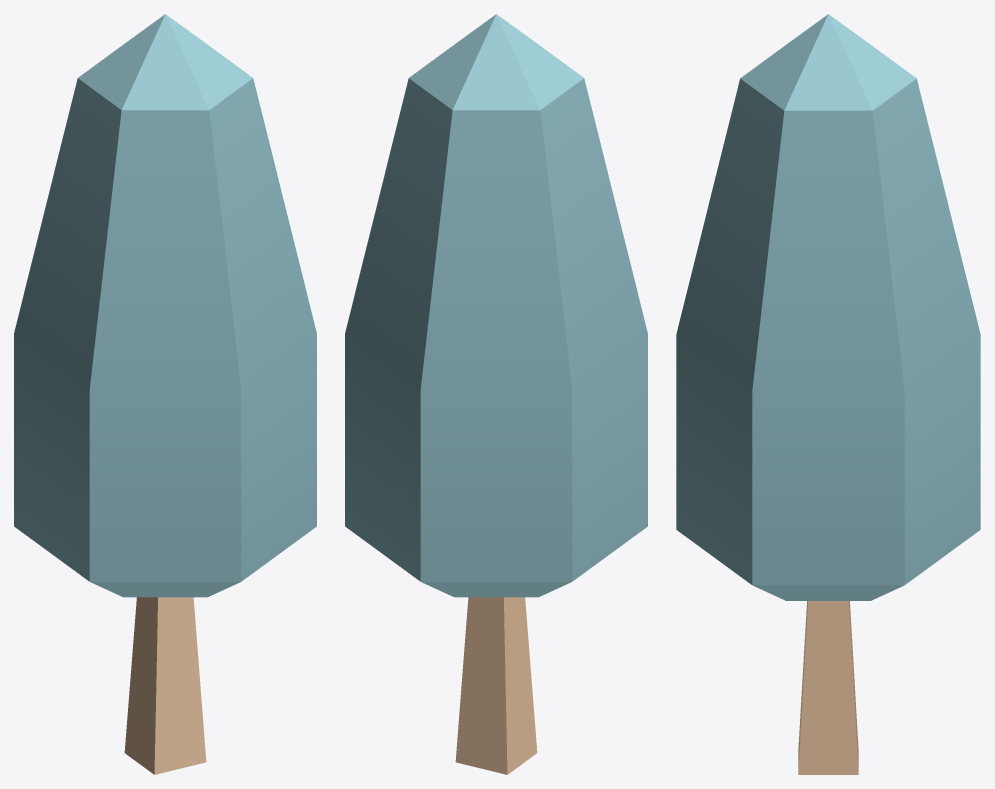
Rendered from tree_small_dark.glb.
3 renders of one model, left to right at view 1: azimuth 30°, elevation 25°; view 2: azimuth 150°, elevation 25°; view 3: azimuth 270°, elevation 25°, orthographic.
Visible parts, largest first — view 1: tree_small_dark; view 2: tree_small_dark; view 3: tree_small_dark.
Boxes of the visible parts, x1,y1,x2,y2 form: tree_small_dark: [14, 14, 316, 774]; tree_small_dark: [345, 14, 647, 774]; tree_small_dark: [676, 14, 980, 774].
Size of the model in its own units: 0.3546 by 1.11 by 0.4095.
